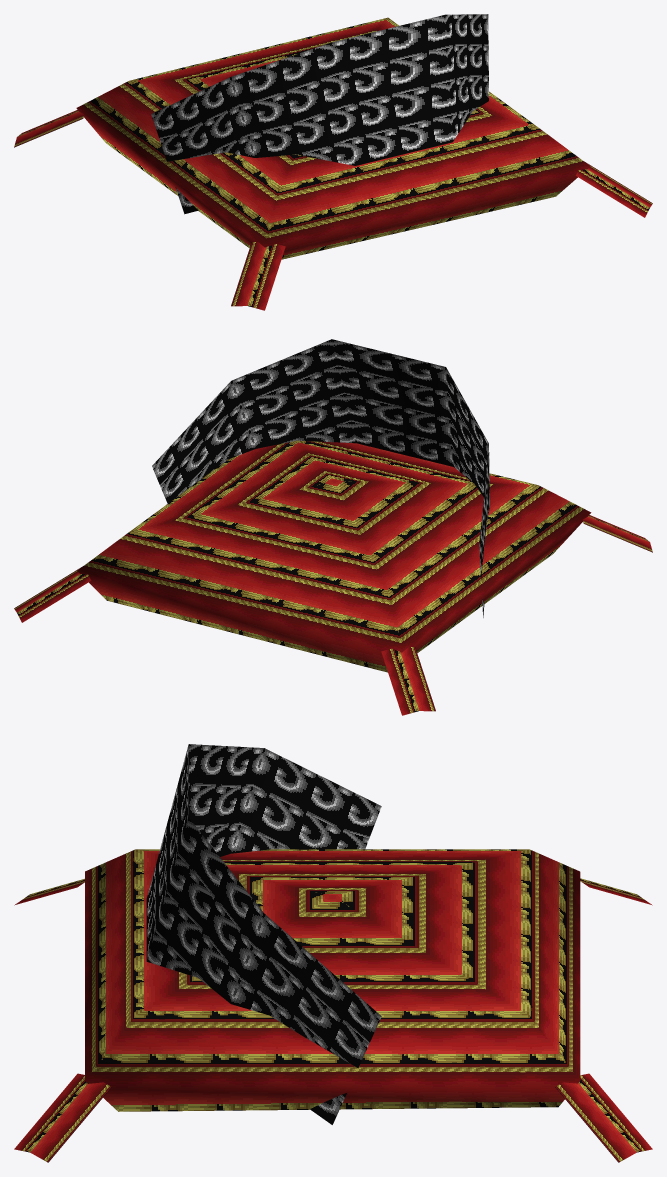
File: 5331um_ac_hed4.gltf
3 renders of one model, top to bottom at view 1: azimuth 30°, elevation 25°; view 2: azimuth 150°, elevation 25°; view 3: azimuth 270°, elevation 25°, orthographic. The views are drawn at different scales.
Visible parts, largest first — view 1: 5331um_ac_hed4; view 2: 5331um_ac_hed4; view 3: 5331um_ac_hed4.
Part boxes in pixels (<box>): 5331um_ac_hed4: <box>14,14,652,310</box>; 5331um_ac_hed4: <box>14,339,652,715</box>; 5331um_ac_hed4: <box>14,744,652,1162</box>.
Bounding box in the file's own units: 0.998 × 0.4277 × 0.9946.
2 materials, 2 textured.
